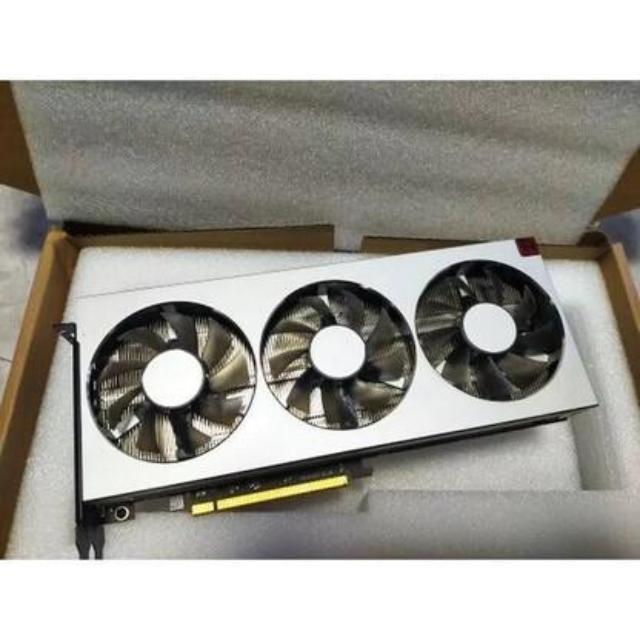GPU: (60, 237, 598, 523)
